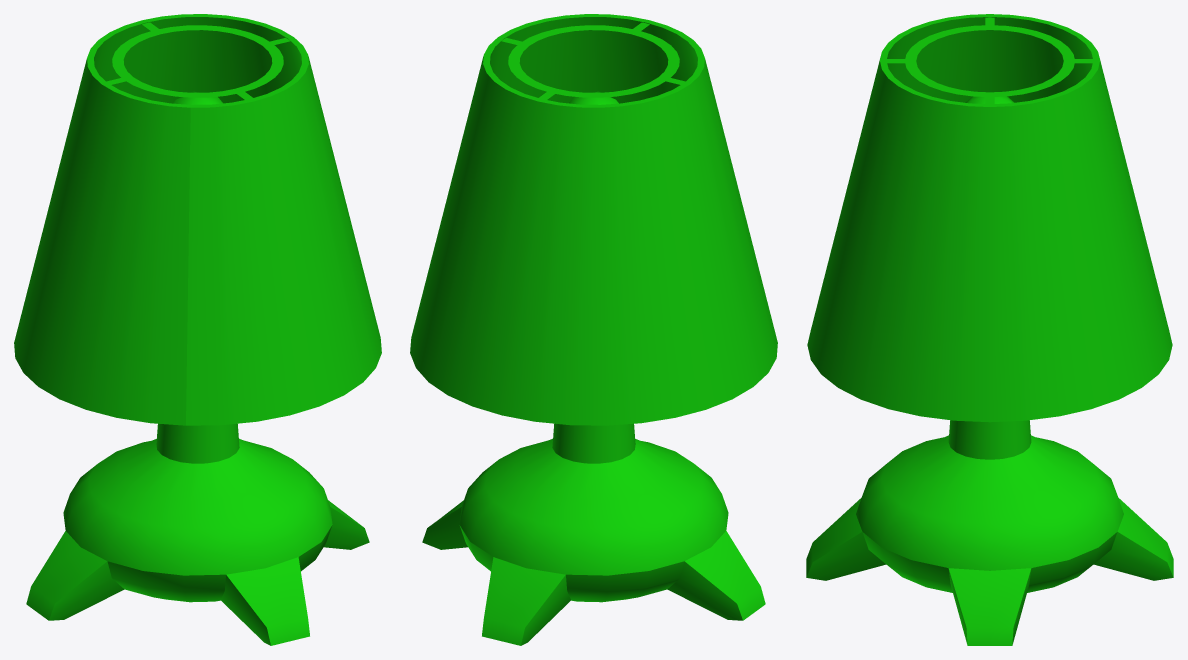
Rendered from Lämp.fbx.
The picture shows the model from 3 angles, left to right: view 1: azimuth 30°, elevation 25°; view 2: azimuth 150°, elevation 25°; view 3: azimuth 270°, elevation 25°; orthographic projection.
Visible parts, largest first — view 1: Sphere.001; view 2: Sphere.001; view 3: Sphere.001.
Boxes of the visible parts, bbox=[...] form: Sphere.001: bbox=[14, 14, 381, 645]; Sphere.001: bbox=[410, 14, 777, 645]; Sphere.001: bbox=[806, 14, 1173, 645].
Bounding box in the file's own units: 543 × 840 × 543.
